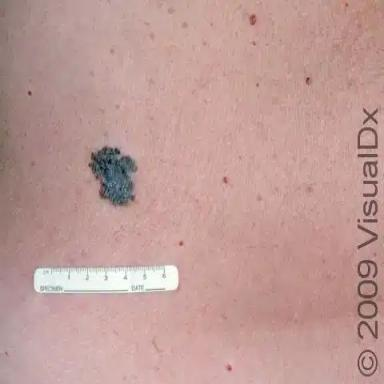Melanoma: (89, 145, 138, 207)
